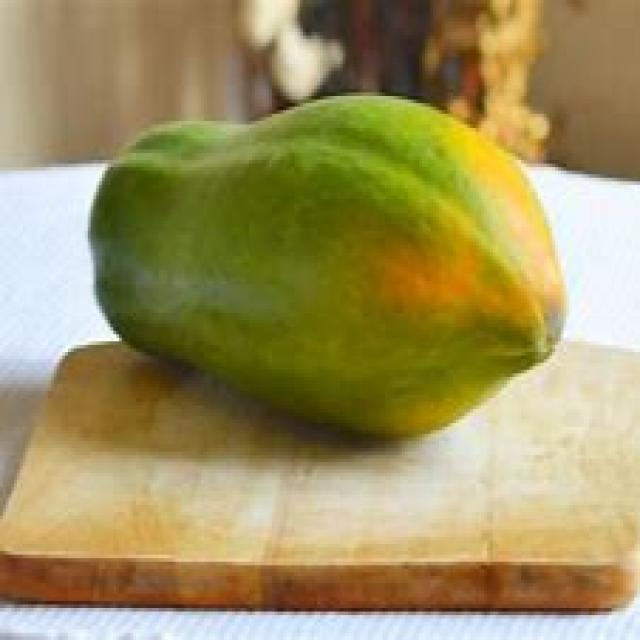Pepaya rippen: (75, 89, 585, 464)
